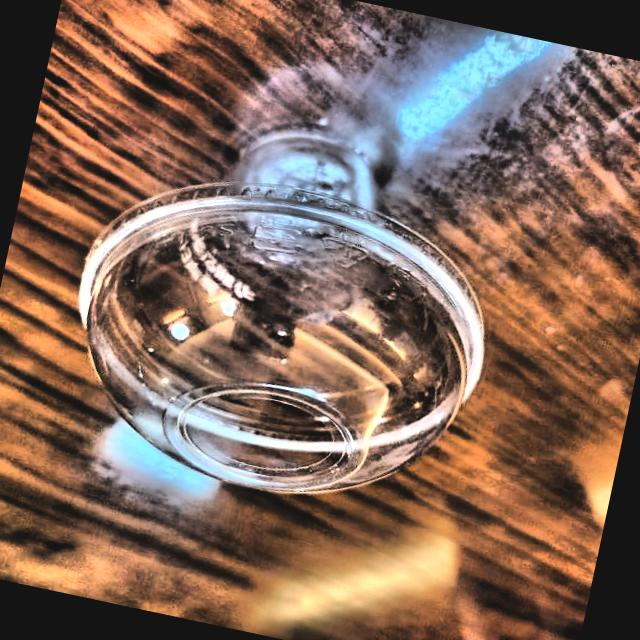plastic cup: (25, 48, 555, 549)
